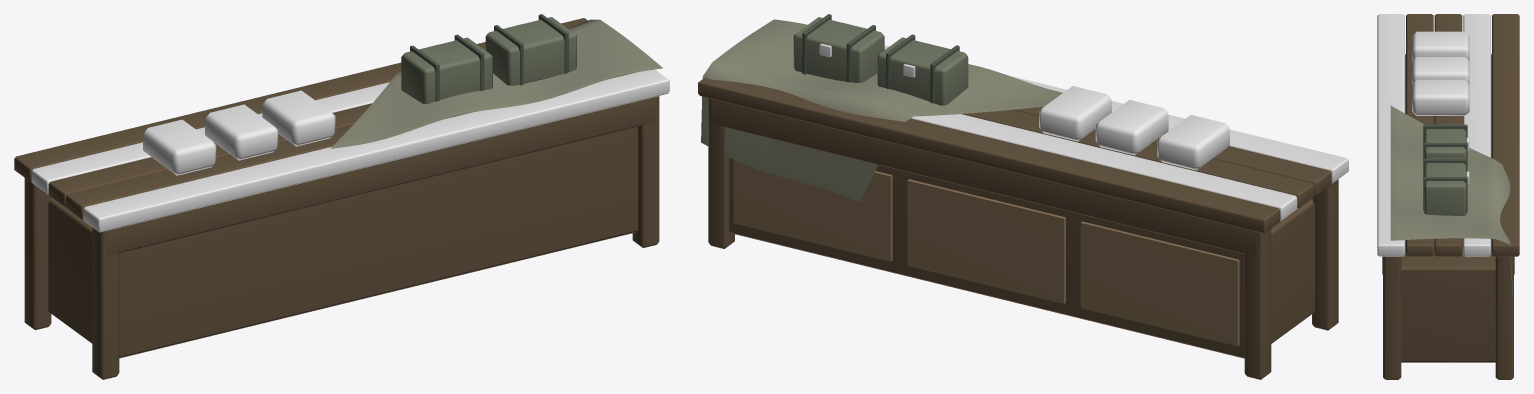
Rendered from MarketCounter62.fbx.
3 views of the same model, side by side, from view 1: azimuth 30°, elevation 25°; view 2: azimuth 150°, elevation 25°; view 3: azimuth 270°, elevation 25° (orthographic). The views are drawn at different scales.
Parts seen in each view (by area): view 1: MarketCounter62; view 2: MarketCounter62; view 3: MarketCounter62.
Part boxes in pixels (x1,y1,x2,y2): MarketCounter62: (14, 14, 669, 379); MarketCounter62: (698, 14, 1348, 379); MarketCounter62: (1377, 14, 1519, 379).
Size of the model in its own units: 360 by 127 by 93.4.
